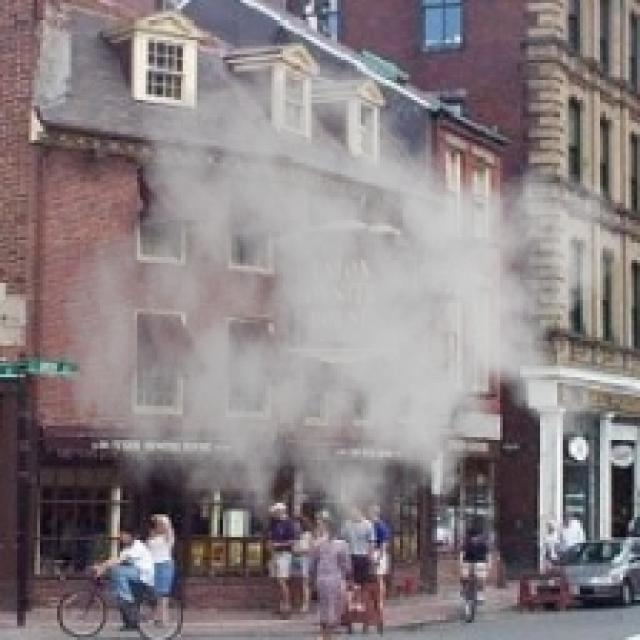smoke: (60, 26, 626, 594)
